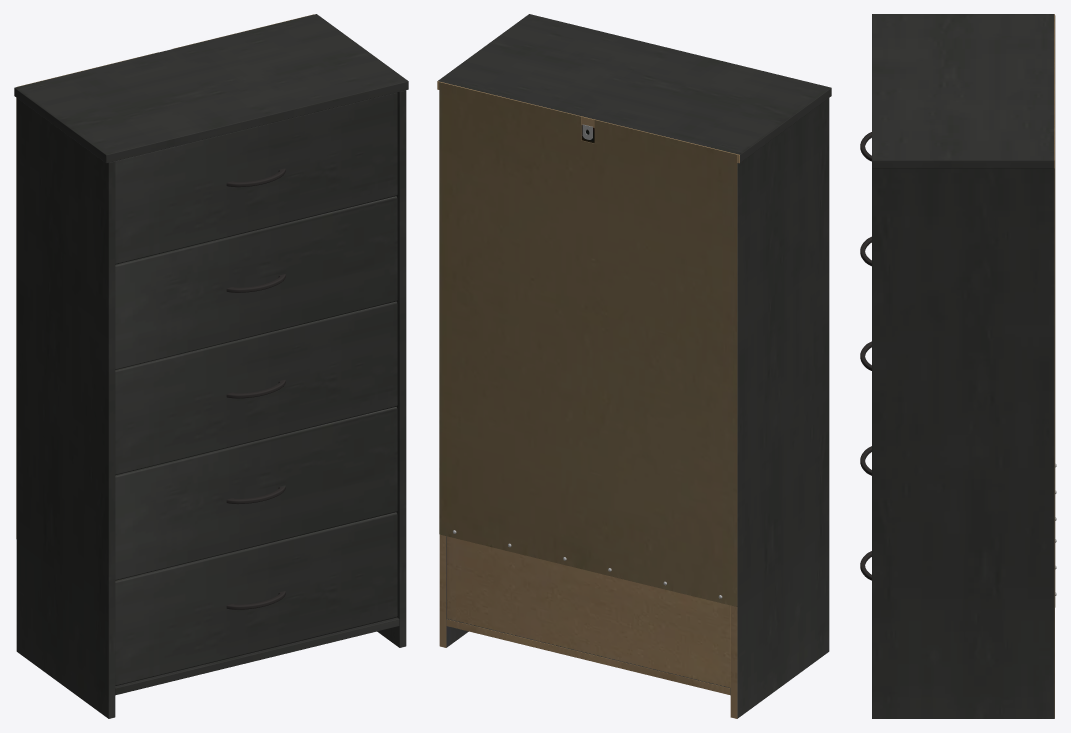
The model's file is abo-B07PYKJYLQ.glb.
3 renders of one model, left to right at view 1: azimuth 30°, elevation 25°; view 2: azimuth 150°, elevation 25°; view 3: azimuth 270°, elevation 25°, orthographic.
Bounding box in the file's own units: 0.704 × 1.26 × 0.399.
Materials: 1 (1 with a texture image).
